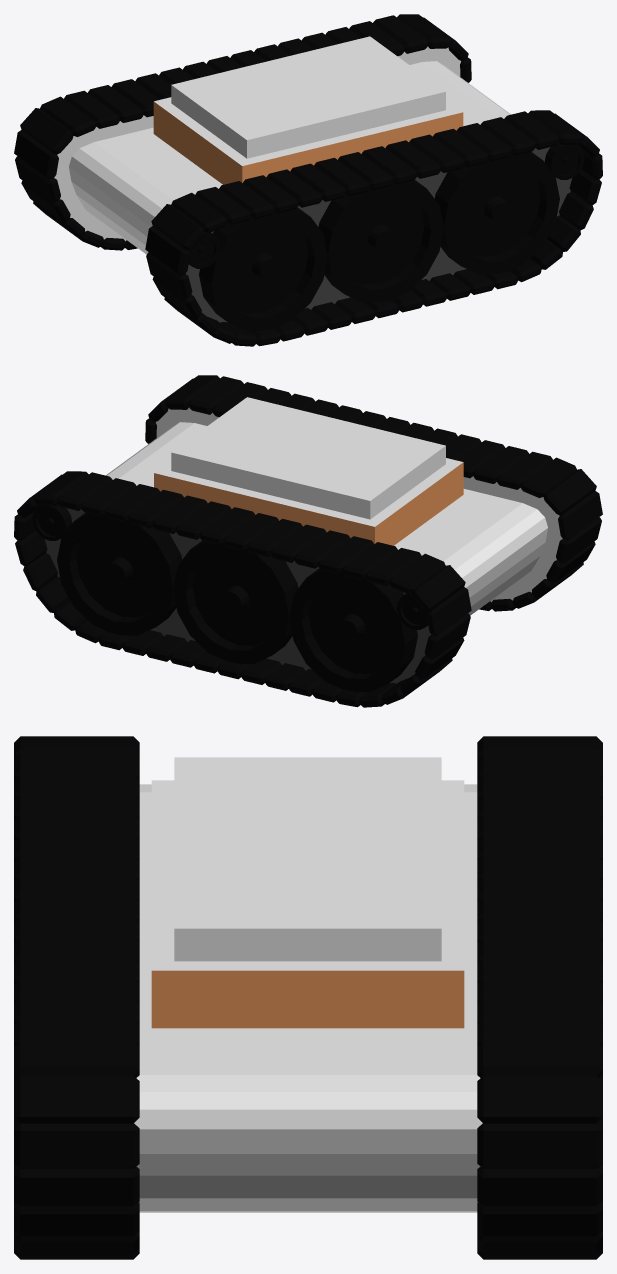
File: Default Tank Body.fbx
3 views of the same model, one above another, from view 1: azimuth 30°, elevation 25°; view 2: azimuth 150°, elevation 25°; view 3: azimuth 270°, elevation 25° (orthographic). The views are drawn at different scales.
Parts seen in each view (by area): view 1: Cube, Cube.001, Cylinder.002, Cylinder.003, Cylinder.004, Cylinder.001, Cylinder.005; view 2: Cube, Cube.001, Cylinder.006, Cylinder.008, Cylinder.009, Cylinder.007, Cylinder.010; view 3: Cube, Cube.001.
Part boxes in pixels (x1=…): Cube: x1=54, y1=36, x2=572, y2=322; Cube.001: x1=14, y1=14, x2=602, y2=346; Cylinder.002: x1=434, y1=152, x2=559, y2=274; Cylinder.003: x1=318, y1=180, x2=443, y2=302; Cylinder.004: x1=199, y1=207, x2=327, y2=331; Cylinder.001: x1=544, y1=143, x2=584, y2=179; Cylinder.005: x1=188, y1=232, x2=220, y2=268; Cube: x1=44, y1=397, x2=562, y2=683; Cube.001: x1=14, y1=375, x2=602, y2=707; Cylinder.006: x1=57, y1=513, x2=182, y2=635; Cylinder.008: x1=173, y1=541, x2=298, y2=663; Cylinder.009: x1=289, y1=568, x2=417, y2=692; Cylinder.007: x1=32, y1=504, x2=72, y2=540; Cylinder.010: x1=396, y1=593, x2=428, y2=629; Cube: x1=134, y1=757, x2=482, y2=1212; Cube.001: x1=14, y1=736, x2=602, y2=1259.
Bounding box in the file's own units: 577 × 217 × 392.
